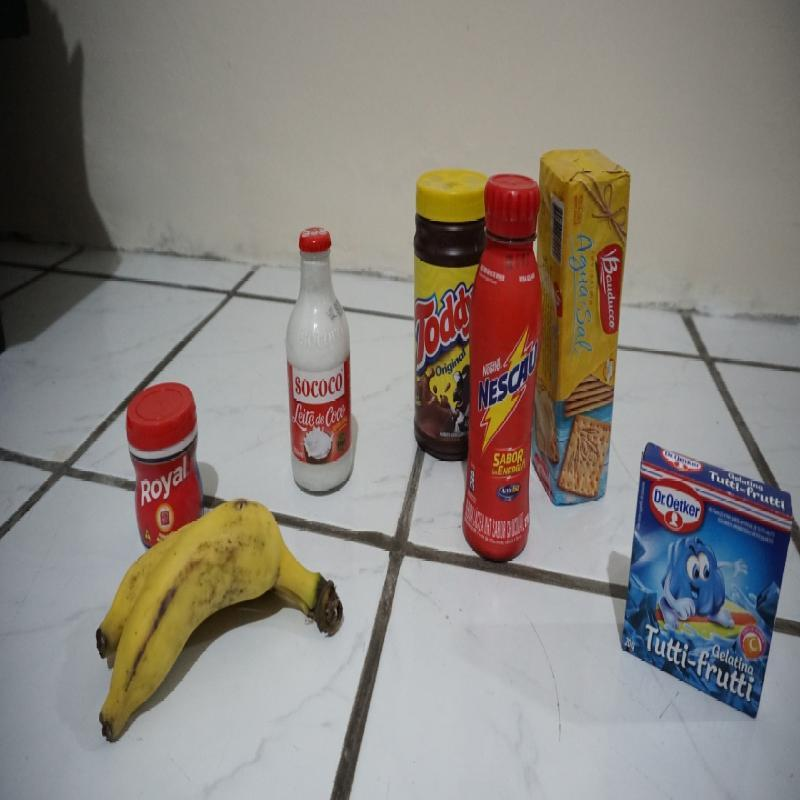Banana: (56, 520, 344, 756)
Chocolate Milk: (471, 179, 534, 560)
Chocolate Powder: (413, 174, 469, 452)
Coconut Milk: (280, 236, 364, 494)
Cracker: (539, 146, 623, 501)
Gelatine: (624, 433, 791, 730)
Yeast: (123, 381, 206, 530)
